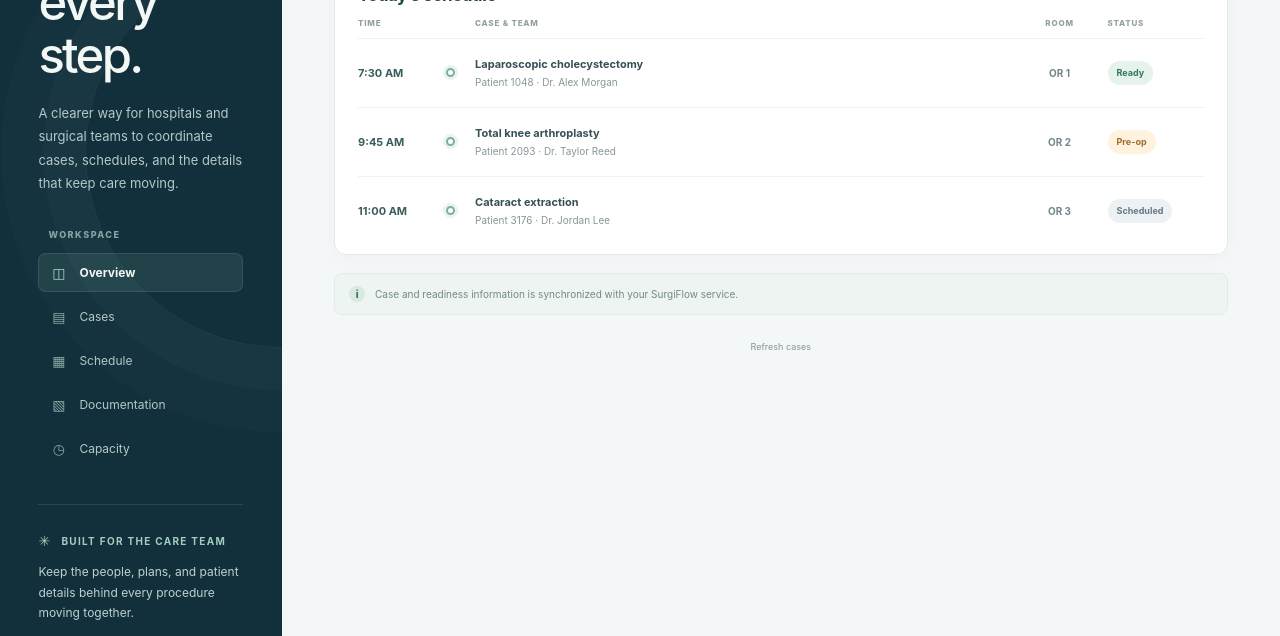
HomePage › updates case status through the API
(page scrolled)
Click the button "▤ Cases".
click(141, 317)  # box [38,297,243,336]
(page scrolled)
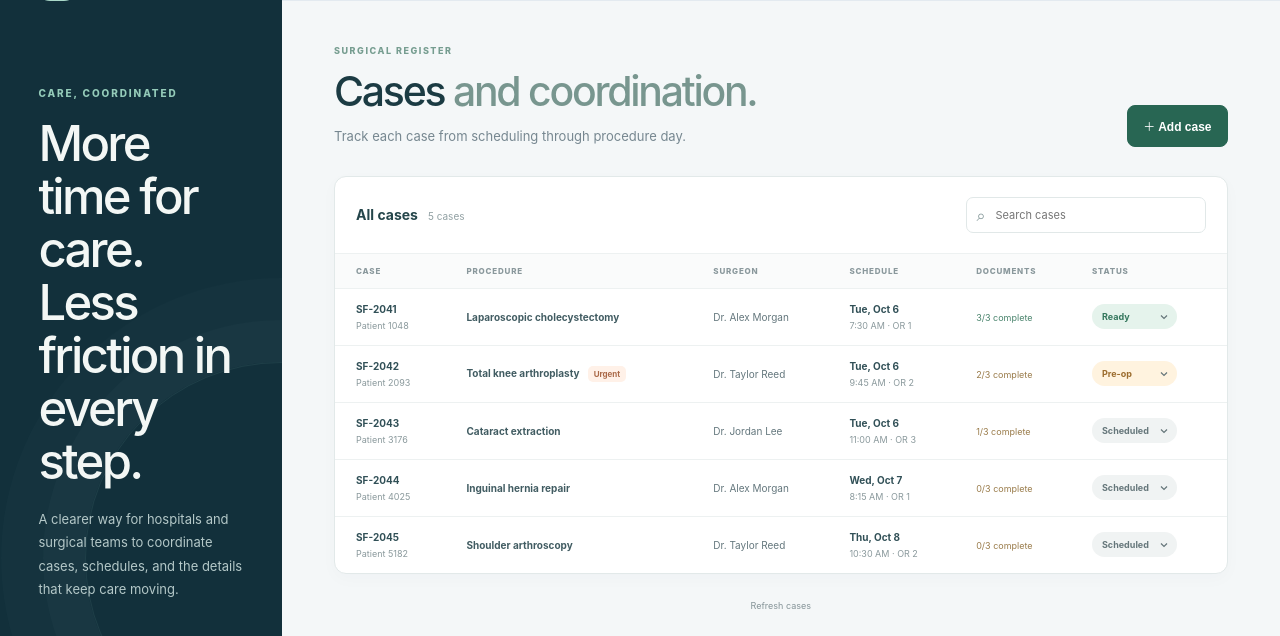
Select "In progress" in the dropdown named "Update status for SF-2041" at (1134, 317), box [1092,304,1177,329]
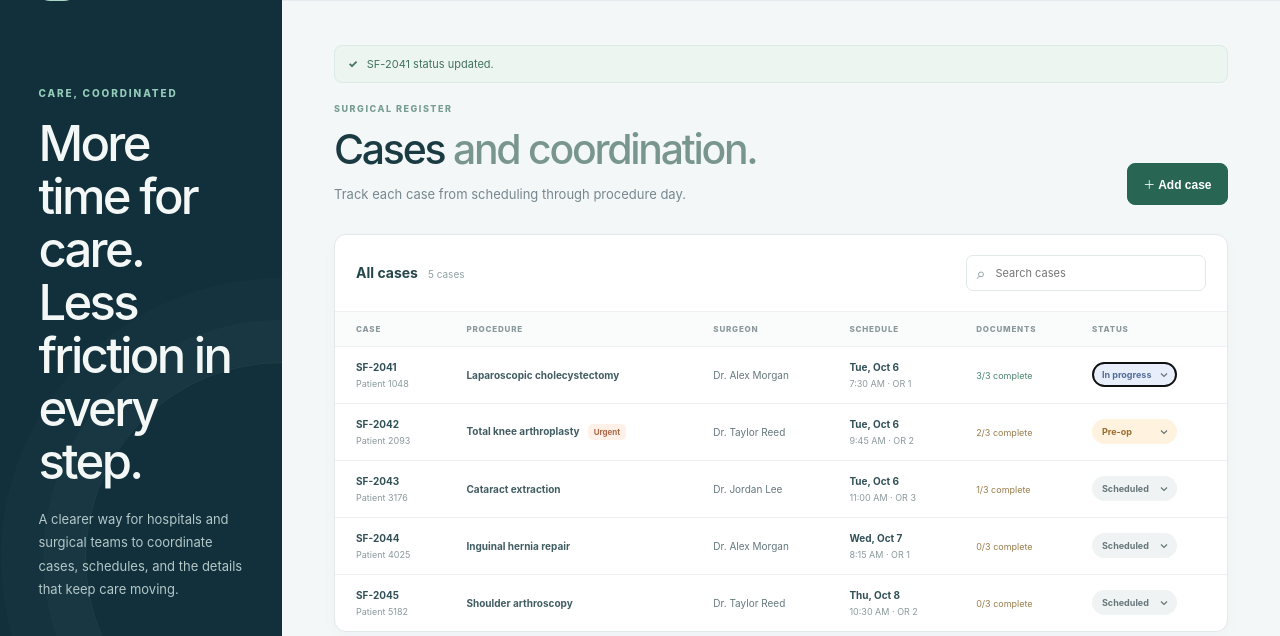
Expected: the message "✓ SF-2041 status updated." is shown, [334,45,1228,83]
